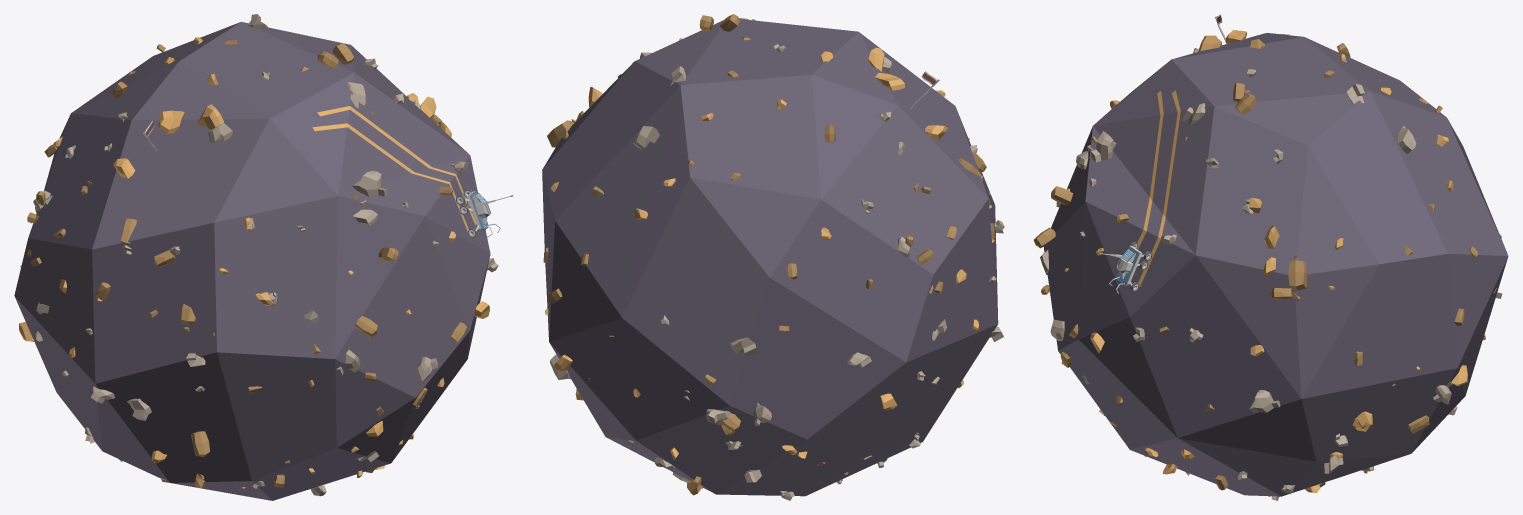
The model's file is rockPlanet.glb.
3 renders of one model, left to right at view 1: azimuth 30°, elevation 25°; view 2: azimuth 150°, elevation 25°; view 3: azimuth 270°, elevation 25°, orthographic. The views are drawn at different scales.
Visible parts, largest first — view 1: planet.002, planet.003; view 2: planet.002, planet.003; view 3: planet.002, planet.003.
Part boxes in pixels (<box>): planet.002: <box>14,19,512,500</box>; planet.003: <box>19,14,513,489</box>; planet.002: <box>542,14,1003,499</box>; planet.003: <box>543,18,1004,500</box>; planet.002: <box>1033,30,1508,500</box>; planet.003: <box>1040,14,1501,426</box>.
Bounding box in the file's own units: 13.89 × 13.8 × 14.43.
Materials: 1 (1 with a texture image).
